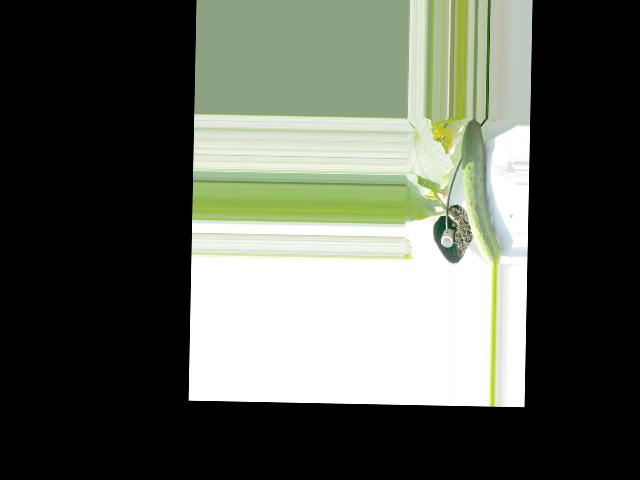cucumber: (459, 118, 503, 267)
